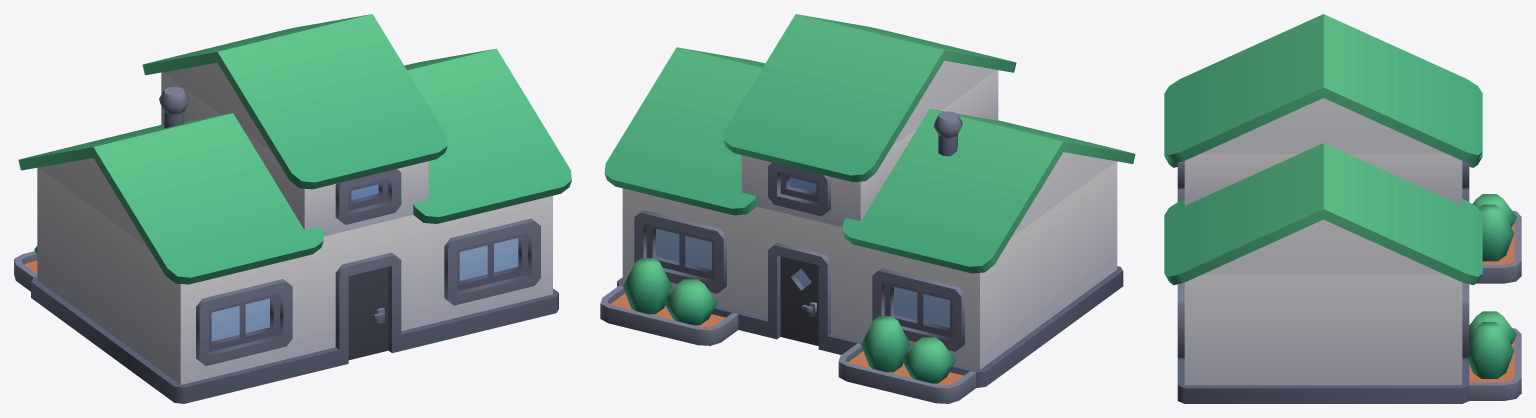
File: house_0.fbx
3 renders of one model, left to right at view 1: azimuth 30°, elevation 25°; view 2: azimuth 150°, elevation 25°; view 3: azimuth 270°, elevation 25°, orthographic. The views are drawn at different scales.
Visible parts, largest first — view 1: house_0; view 2: house_0; view 3: house_0.
Part boxes in pixels (<box>): house_0: <box>14,14,571,403</box>; house_0: <box>600,14,1135,403</box>; house_0: <box>1164,14,1521,403</box>.
Size of the model in its own units: 1.3 by 0.8335 by 1.03.
Materials: 1 (1 with a texture image).
